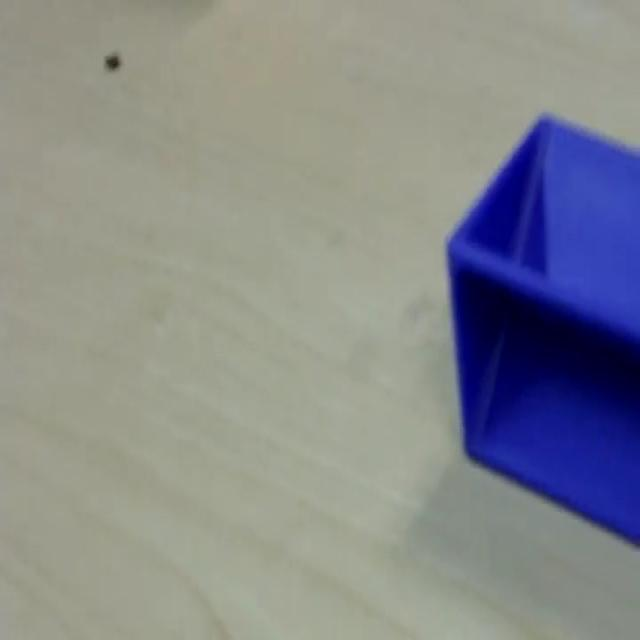blue_block: (444, 109, 639, 547)
